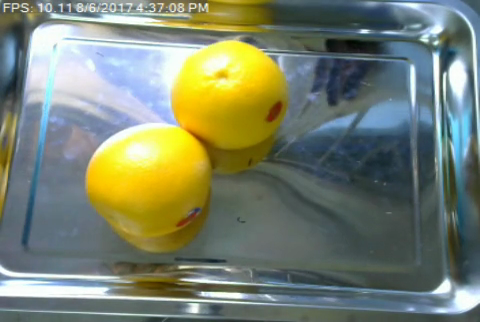Orange: (84, 121, 210, 236), (170, 40, 289, 147)
